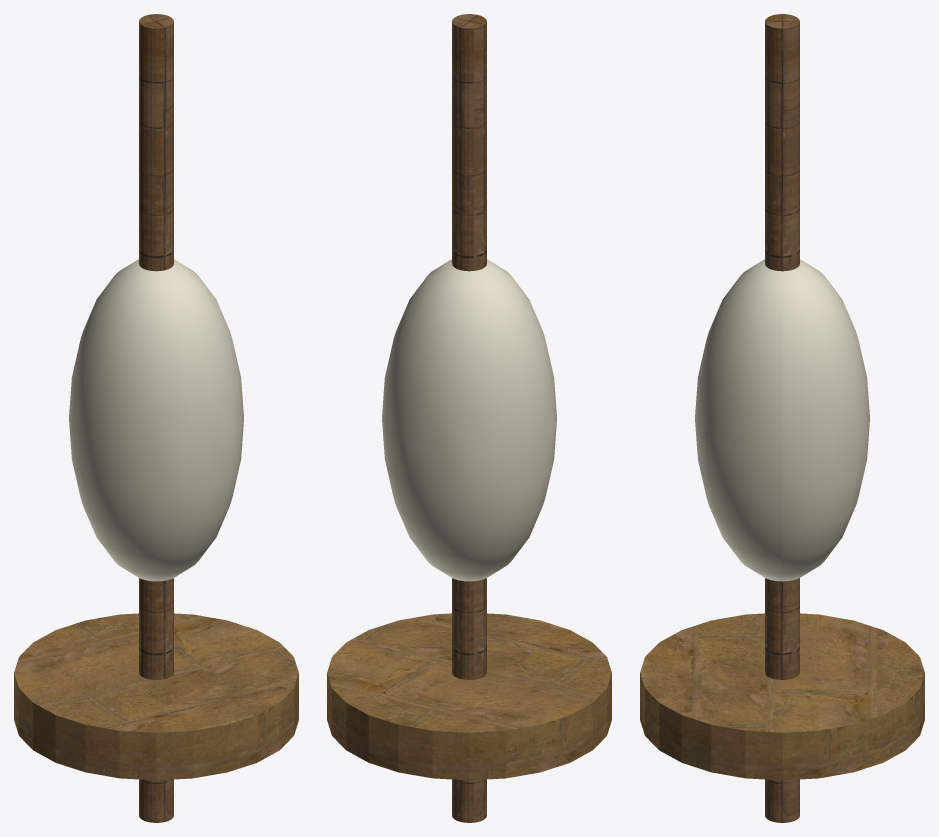
Rendered from fuso.glb.
3 views of the same model, side by side, from view 1: azimuth 30°, elevation 25°; view 2: azimuth 150°, elevation 25°; view 3: azimuth 270°, elevation 25° (orthographic).
Visible parts, largest first — view 1: Fio, Volante, Fuso; view 2: Fio, Volante, Fuso; view 3: Fio, Volante, Fuso.
Part boxes in pixels (x1,y1,x2,y2): Fio: [69, 259, 243, 581]; Volante: [14, 613, 298, 780]; Fuso: [139, 14, 173, 822]; Fio: [382, 259, 556, 581]; Volante: [327, 613, 611, 780]; Fuso: [452, 14, 486, 822]; Fio: [695, 259, 869, 581]; Volante: [640, 613, 924, 780]; Fuso: [765, 14, 799, 822].
Size of the model in its own units: 0.65 by 2 by 0.65.
3 materials, 2 textured.
